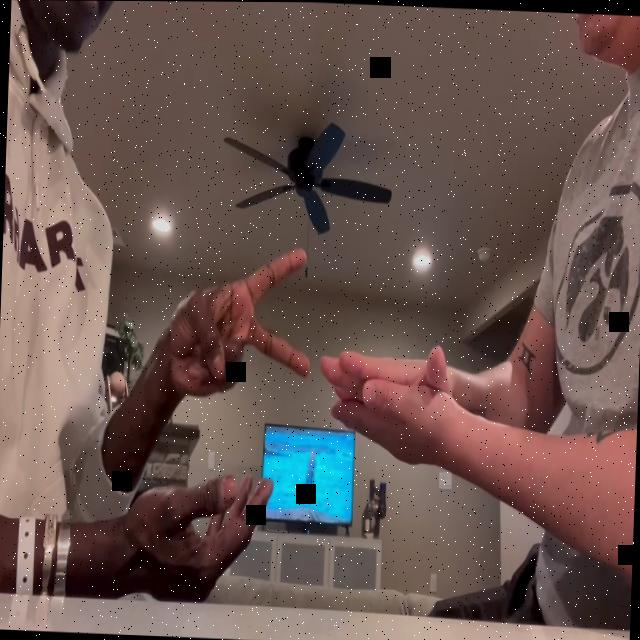Paper: (318, 338, 454, 407)
Scissors: (162, 238, 314, 415)
